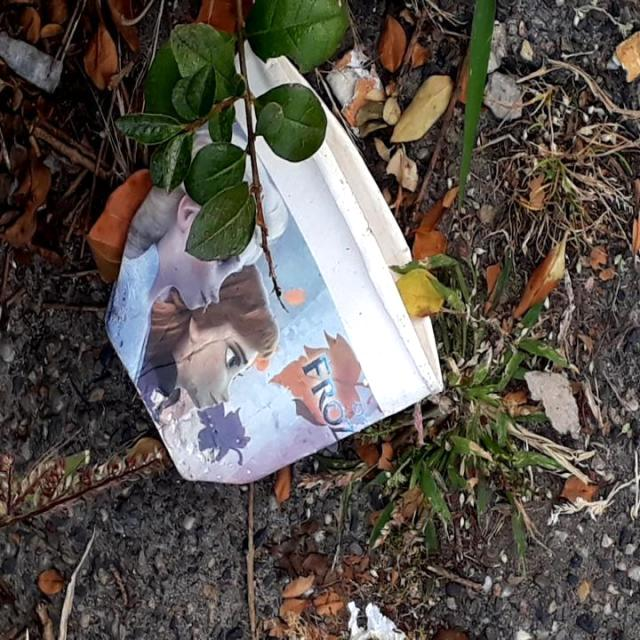Paper: (98, 51, 446, 489)
